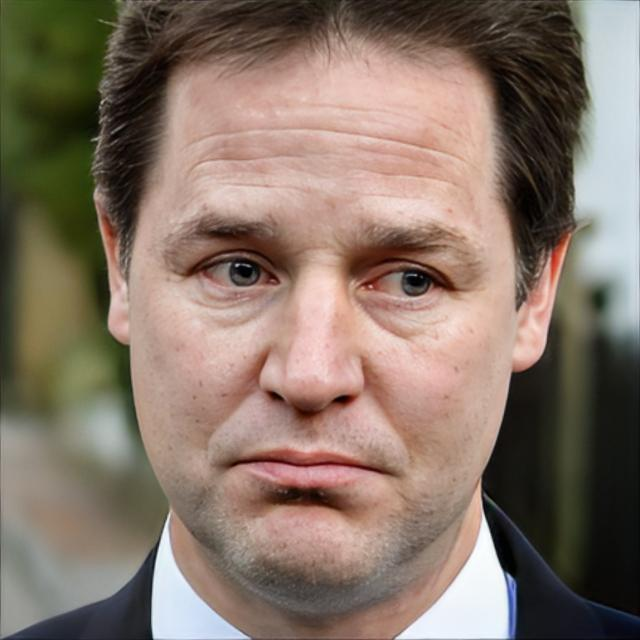sad: (124, 48, 516, 594)
